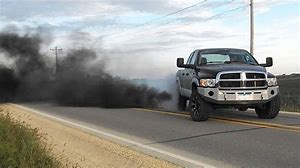smoke: (1, 31, 174, 111)
